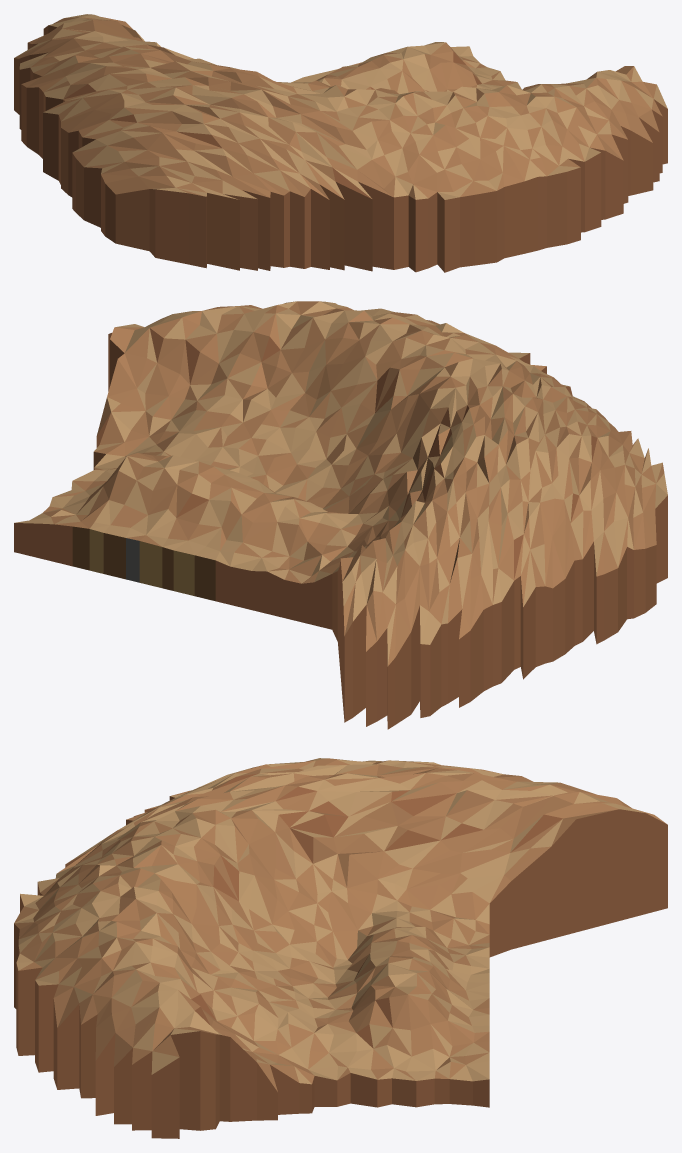
File: nose_rise.glb
The picture shows the model from 3 angles, top to bottom: view 1: azimuth 30°, elevation 25°; view 2: azimuth 150°, elevation 25°; view 3: azimuth 270°, elevation 25°; orthographic projection. The views are drawn at different scales.
Visible parts, largest first — view 1: nose_rise; view 2: nose_rise; view 3: nose_rise.
Part boxes in pixels (box(x1,y1,x2,y2)): nose_rise: box(14, 14, 667, 272); nose_rise: box(14, 301, 667, 729); nose_rise: box(14, 758, 667, 1138).
Bounding box in the file's own units: 274 × 69.76 × 267.
